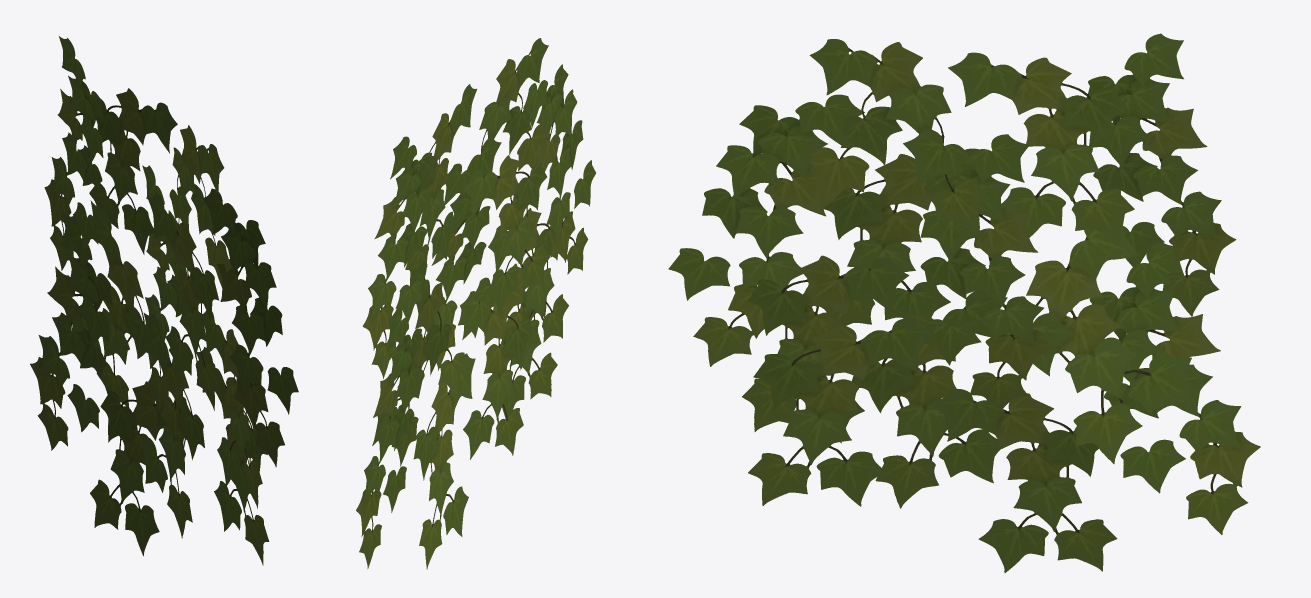
3 renders of one model, left to right at view 1: azimuth 30°, elevation 25°; view 2: azimuth 150°, elevation 25°; view 3: azimuth 270°, elevation 25°, orthographic. The views are drawn at different scales.
Visible parts, largest first — view 1: body0_model0_lod0_mesh0; view 2: body0_model0_lod0_mesh0; view 3: body0_model0_lod0_mesh0.
Boxes of the visible parts, box(x1,y1,x2,y2) form: body0_model0_lod0_mesh0: box(30, 36, 298, 565); body0_model0_lod0_mesh0: box(356, 38, 595, 569); body0_model0_lod0_mesh0: box(668, 33, 1260, 572).
Bounding box in the file's own units: 4.48 × 68.43 × 72.47.
Materials: 1 (1 with a texture image).
